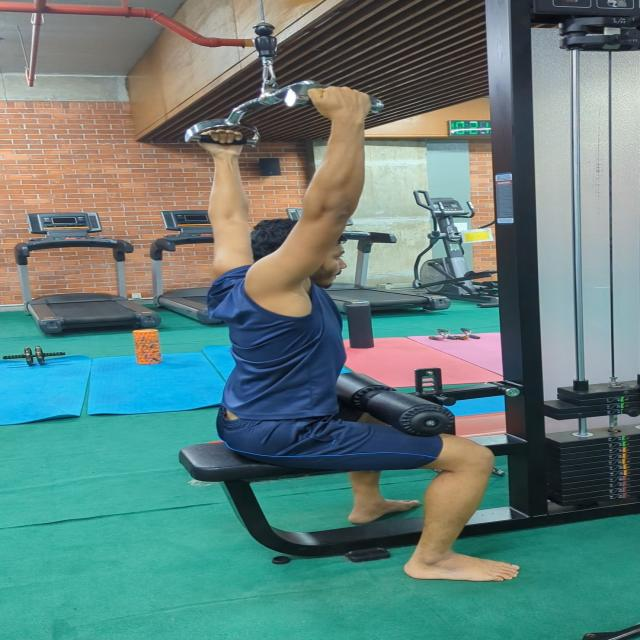Normal_LatPulldown: (175, 78, 551, 587)
